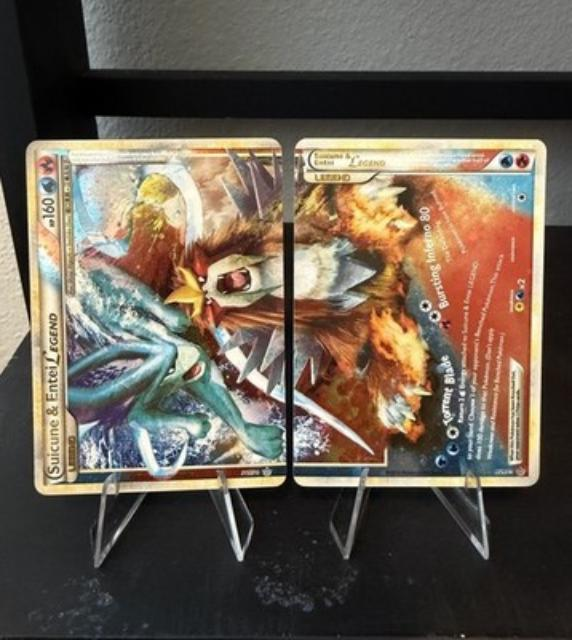Card: (24, 134, 290, 499), (290, 134, 550, 490)
Name: (39, 306, 65, 479), (306, 147, 393, 174)
